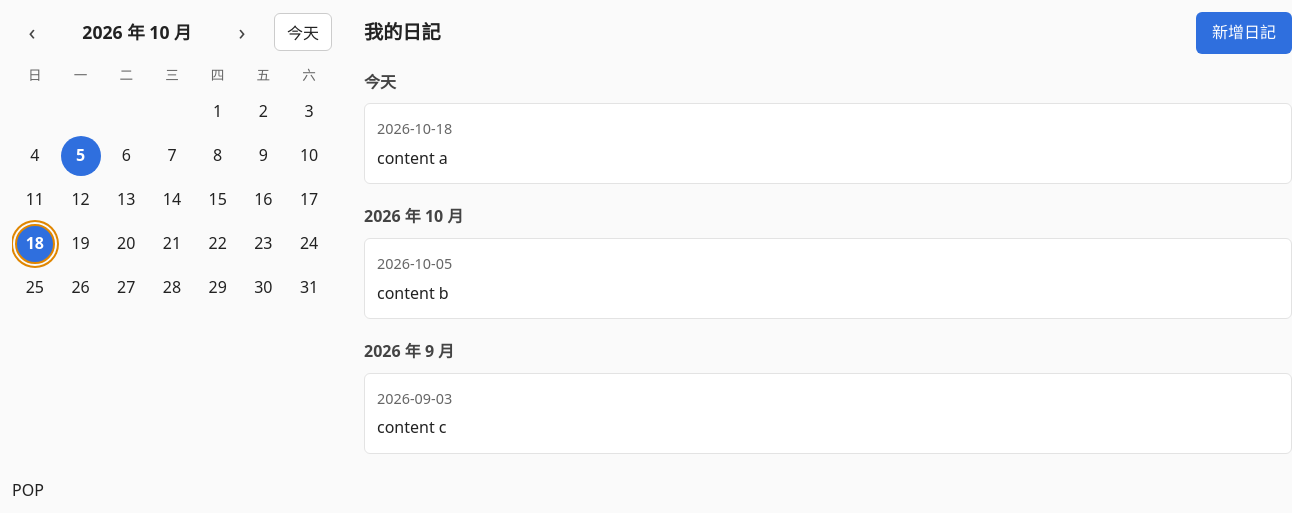
Test case: HomePage calendar selection › selecting a marked day filters the list and writes month/date with replace
What coordinates should you click on to do the following:
click the button named "10月5日，有日記"
I would click on:
 (80, 156)
Its box is [60, 136, 100, 176].
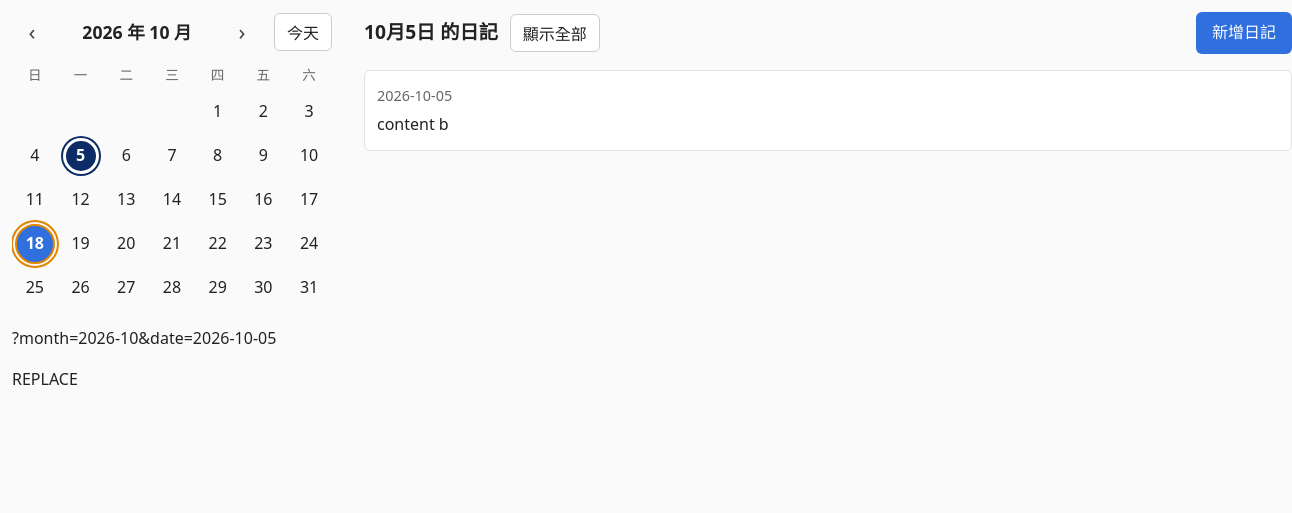
Check: the text with test id "search" reads "?month=2026-10&date=2026-10-05", box [12, 327, 276, 349]
Check: the text with test id "nav-type" reads "REPLACE", box [12, 368, 78, 390]
Check: the heading "10月5日 的日記" is shown, box [364, 17, 498, 48]
